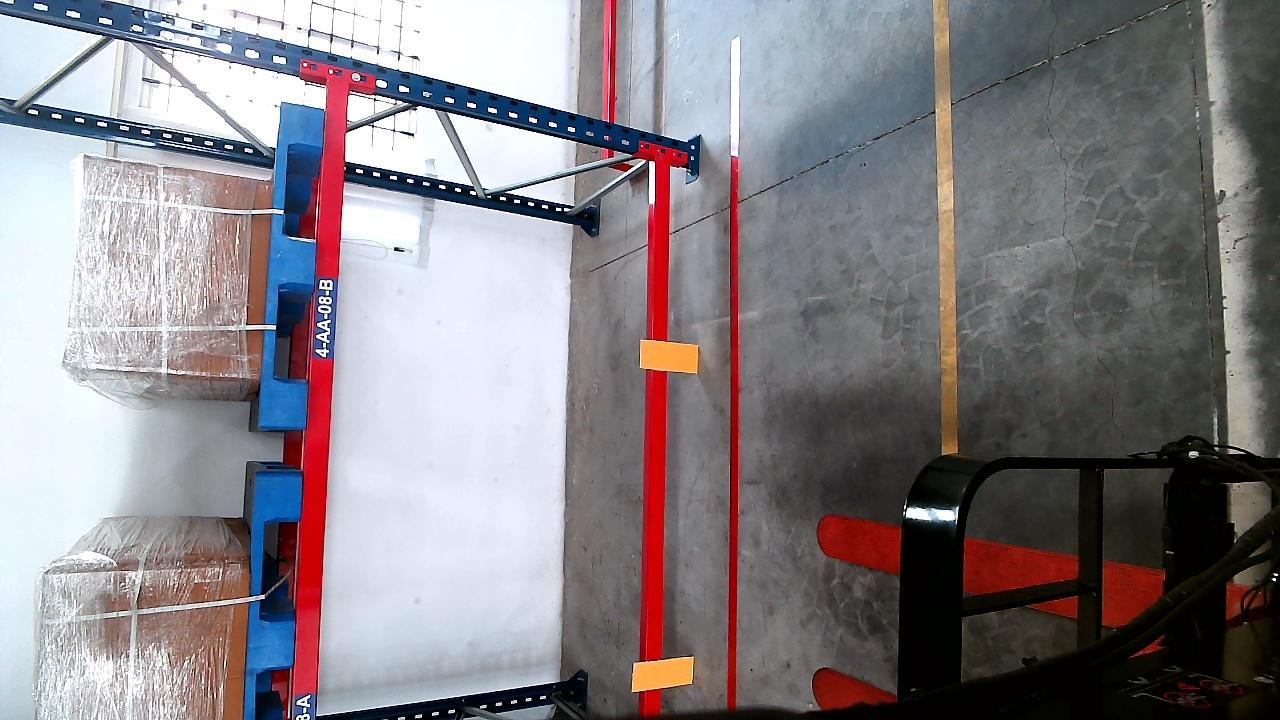red_line: (718, 153, 745, 705)
yellow_line: (935, 0, 961, 452)
